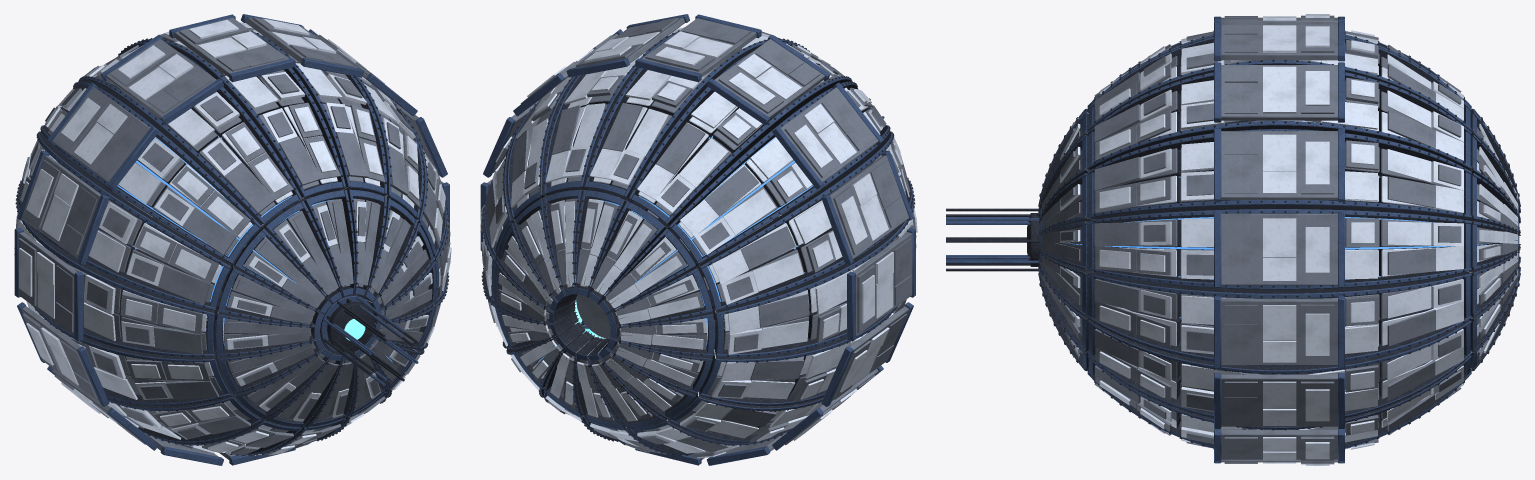
Rendered from weltenkruemmer.syntheten.rig.klein.glb.
3 renders of one model, left to right at view 1: azimuth 30°, elevation 25°; view 2: azimuth 150°, elevation 25°; view 3: azimuth 270°, elevation 25°, orthographic. The views are drawn at different scales.
Visible parts, largest first — view 1: platte_02, platte_03, platte_01, platte_04, platte_00, platte_05, platte_15, platte_06, platte_14, klappe_vorn_03, klappe_vorn_01, klappe_vorn_02 (+20 smaller); view 2: platte_02, platte_03, platte_01, platte_04, platte_00, platte_05, platte_15, platte_06, platte_14, klappe_hinten_03, klappe_hinten_01, klappe_hinten_02 (+18 smaller); view 3: platte_13, platte_14, platte_12, platte_15, platte_11, platte_00, platte_10, platte_01, spindel_1, klappe_hinten_14, klappe_vorn_14, klappe_hinten_13 (+13 smaller).
Part boxes in pixels (bbox=[...]): platte_02: bbox=[40, 81, 261, 263]; platte_03: bbox=[17, 131, 231, 310]; platte_01: bbox=[78, 34, 301, 225]; platte_04: bbox=[14, 193, 216, 356]; platte_00: bbox=[134, 14, 345, 200]; platte_05: bbox=[17, 301, 231, 406]; platte_15: bbox=[240, 14, 387, 195]; platte_06: bbox=[47, 366, 261, 450]; platte_14: bbox=[309, 29, 424, 218]; klappe_vorn_03: bbox=[216, 261, 324, 326]; klappe_vorn_01: bbox=[259, 200, 343, 303]; klappe_vorn_02: bbox=[226, 225, 332, 313]; platte_02: bbox=[669, 81, 890, 263]; platte_03: bbox=[699, 131, 913, 310]; platte_01: bbox=[629, 34, 852, 225]; platte_04: bbox=[714, 193, 917, 356]; platte_00: bbox=[585, 14, 796, 200]; platte_05: bbox=[699, 299, 913, 406]; platte_15: bbox=[543, 14, 689, 195]; platte_06: bbox=[669, 365, 883, 450]; platte_14: bbox=[506, 29, 622, 218]; klappe_hinten_03: bbox=[606, 261, 714, 326]; klappe_hinten_01: bbox=[587, 200, 671, 303]; klappe_hinten_02: bbox=[598, 225, 704, 313]; platte_13: bbox=[1087, 209, 1471, 289]; platte_14: bbox=[1087, 128, 1471, 219]; platte_12: bbox=[1087, 272, 1471, 367]; platte_15: bbox=[1087, 62, 1471, 169]; platte_11: bbox=[1087, 320, 1471, 428]; platte_00: bbox=[1087, 23, 1471, 131]; platte_10: bbox=[1087, 355, 1471, 461]; platte_01: bbox=[1087, 14, 1471, 108]; spindel_1: bbox=[946, 208, 1039, 271]; klappe_hinten_14: bbox=[1462, 173, 1520, 234]; klappe_vorn_14: bbox=[1038, 173, 1096, 234]; klappe_hinten_13: bbox=[1470, 221, 1520, 269].
Bounding box in the file's own units: 2.12 × 2.12 × 2.7.
6 materials, 4 textured.
